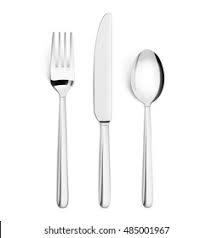Knife: (92, 11, 112, 207)
